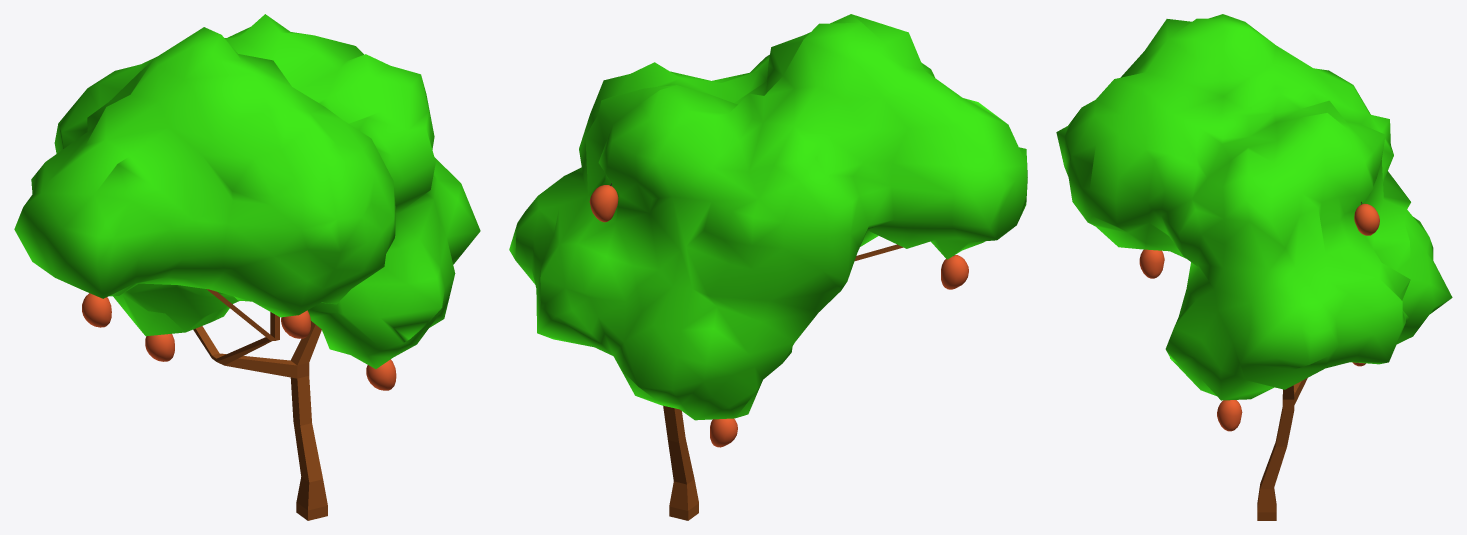
File: SM_MangoTree_001_LOD1.fbx
The picture shows the model from 3 angles, left to right: view 1: azimuth 30°, elevation 25°; view 2: azimuth 150°, elevation 25°; view 3: azimuth 270°, elevation 25°; orthographic projection. The views are drawn at different scales.
Visible parts, largest first — view 1: MangoTree_01; view 2: MangoTree_01; view 3: MangoTree_01.
Boxes of the visible parts, x1,y1,x2,y2 form: MangoTree_01: (14,14,480,520); MangoTree_01: (509,14,1027,520); MangoTree_01: (1056,14,1452,520).
Bounding box in the file's own units: 261 × 278 × 226.
